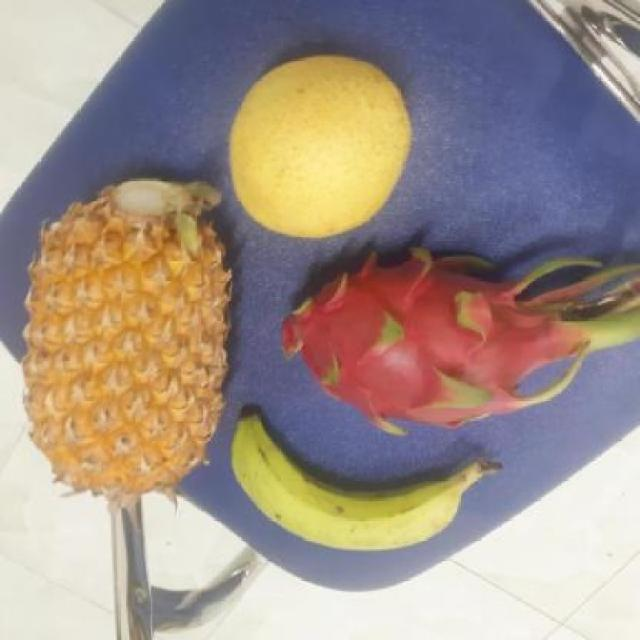banana: (229, 416, 473, 552)
dragon fruit: (256, 248, 558, 430)
pear: (227, 55, 416, 240)
pineapple: (22, 171, 236, 492)
